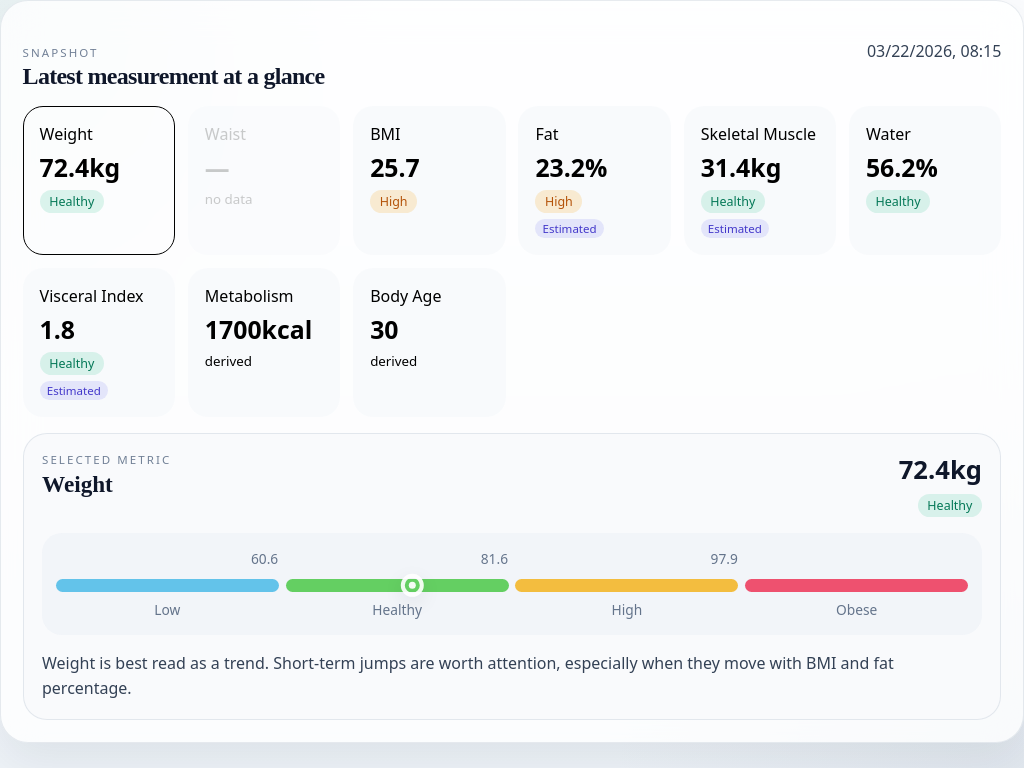
Test: MetricPanel › shows skeletal muscle mass with a health band
Click the button "Skeletal Muscle 31.4kg healthy Estimated" at point(760, 180), box left=684, top=106, right=836, bottom=255
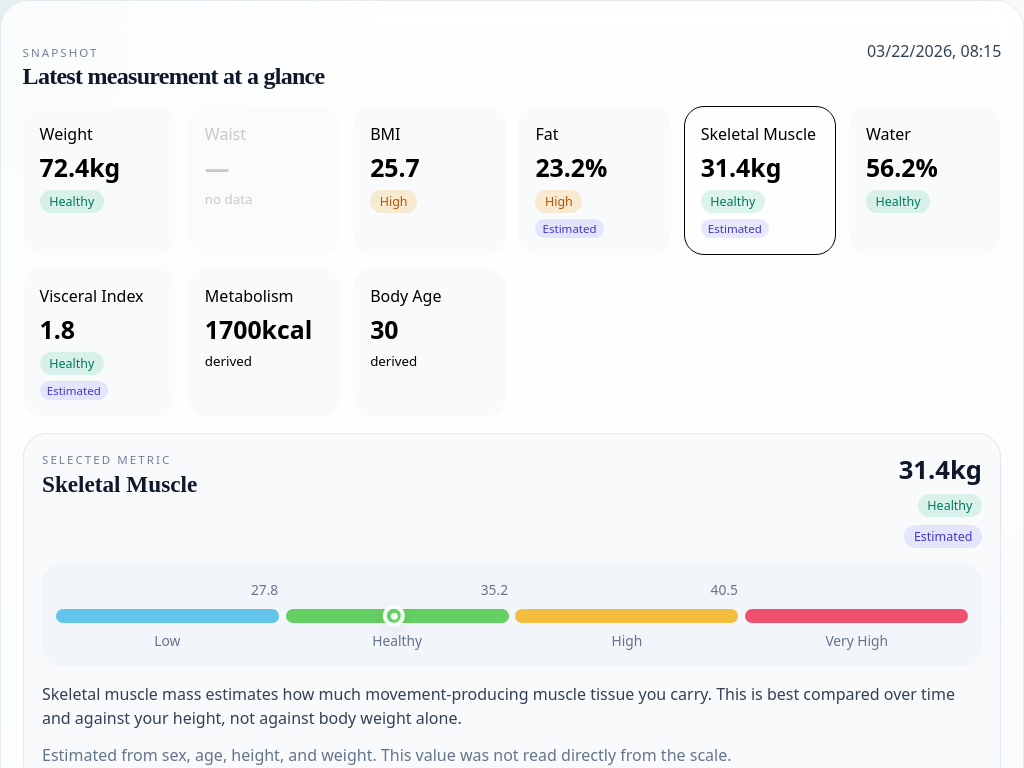
Expected: the 1st text "31.4kg" is shown, left=701, top=150, right=781, bottom=184
Expected: the heading "Skeletal Muscle" is shown, left=42, top=471, right=197, bottom=498
Expected: the text "Very High" is shown, left=825, top=630, right=888, bottom=650
